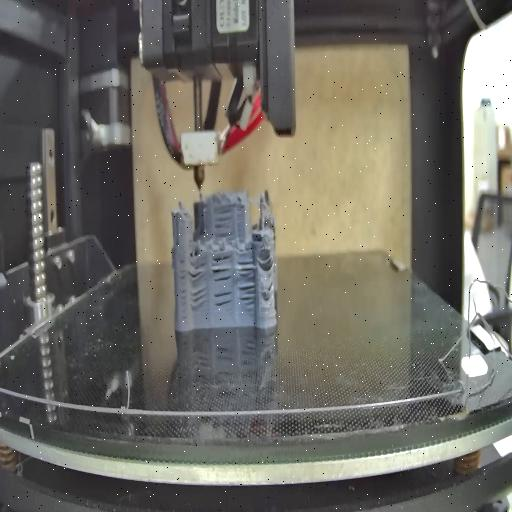cracks: (236, 258, 256, 310), (212, 204, 236, 242), (209, 254, 233, 284), (188, 262, 210, 282), (180, 260, 186, 325), (260, 248, 274, 274), (213, 292, 233, 310), (192, 289, 208, 311), (264, 282, 278, 300)
